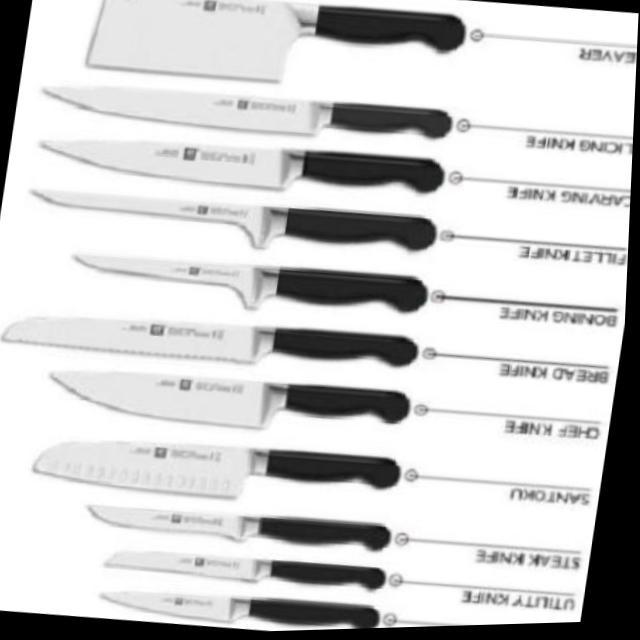weapon: (23, 174, 442, 273), (82, 0, 469, 106), (34, 118, 450, 215), (0, 294, 423, 388), (31, 420, 408, 522), (36, 67, 457, 158), (46, 354, 416, 450), (66, 240, 434, 330), (87, 493, 399, 561), (105, 538, 392, 600), (100, 578, 386, 638)
